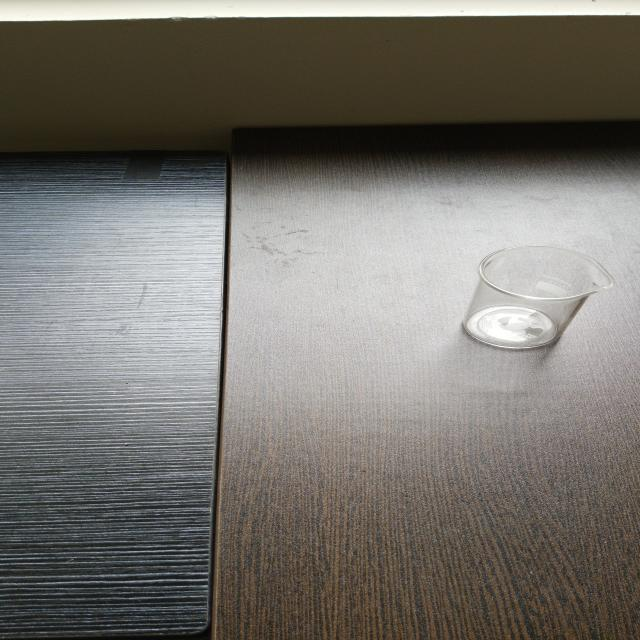beaker: (457, 242, 618, 352)
